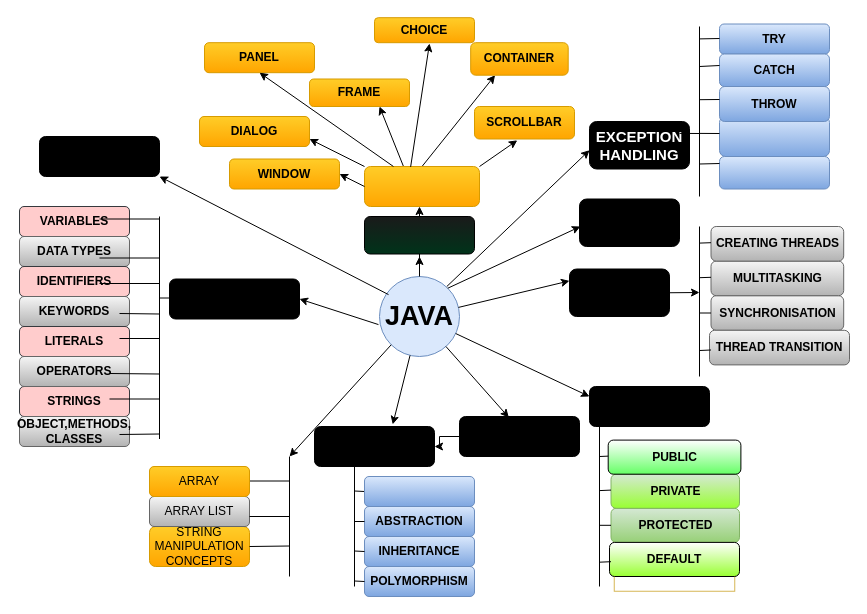
Some shapes in this 867 by 614 pixel diagram are drawn without their labels. The centre of each missing label's shape, as x and y in pixels:
"ACCESS MODIFIERS" belongs at pixel 649 406.
"AWT" belongs at pixel 419 235.
"COMPONENT" belongs at pixel 422 186.
"ENCAPSULATION" belongs at pixel 419 491.
"FILE HANDLING" belongs at pixel 629 222.
"FINALLY" belongs at pixel 774 172.
"JAVA FUNDAMENTALS" belongs at pixel 234 298.
"OOPS" belongs at pixel 374 446.
"PACKAGES" belongs at pixel 519 436.
"SWING" belongs at pixel 99 156.
"THREADS" belongs at pixel 619 292.
"THROWS" belongs at pixel 774 136.
